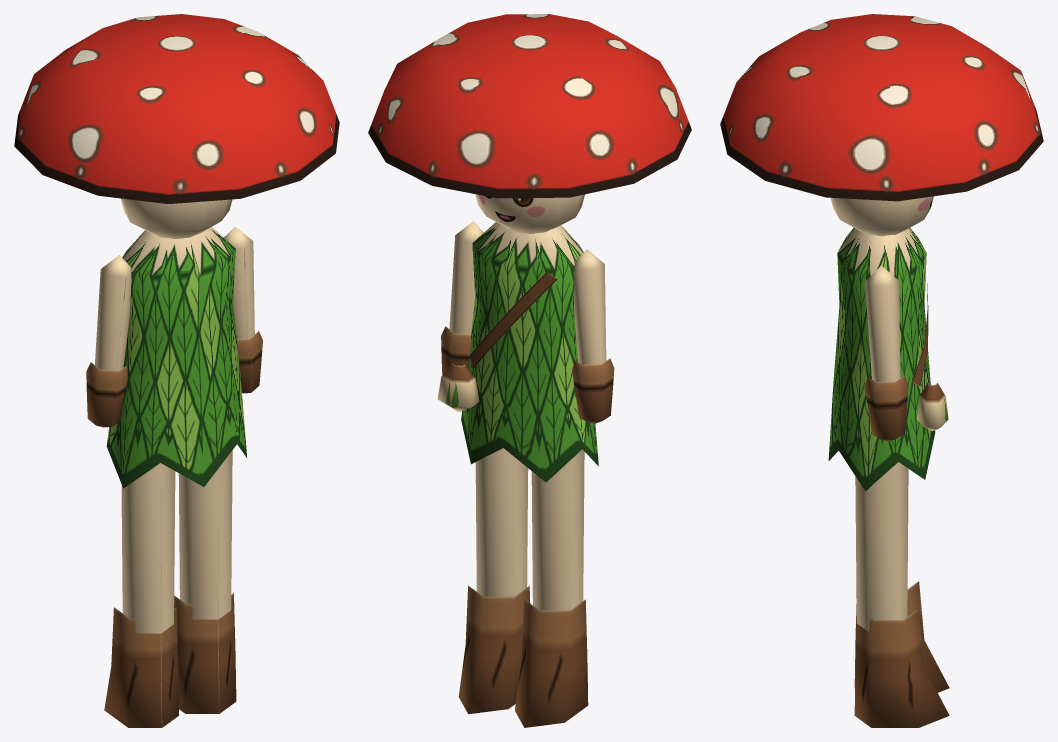
File: Mushroom.glb
3 views of the same model, side by side, from view 1: azimuth 30°, elevation 25°; view 2: azimuth 150°, elevation 25°; view 3: azimuth 270°, elevation 25° (orthographic).
Parts seen in each view (by area): view 1: Mushroom; view 2: Mushroom; view 3: Mushroom.
Part boxes in pixels (left/top/right/bottom): Mushroom: left=14, top=14, right=339, bottom=727; Mushroom: left=368, top=14, right=691, bottom=727; Mushroom: left=720, top=14, right=1043, bottom=727.
Bounding box in the file's own units: 0.7961 × 1.8 × 0.7937.
1 material, 1 textured.
